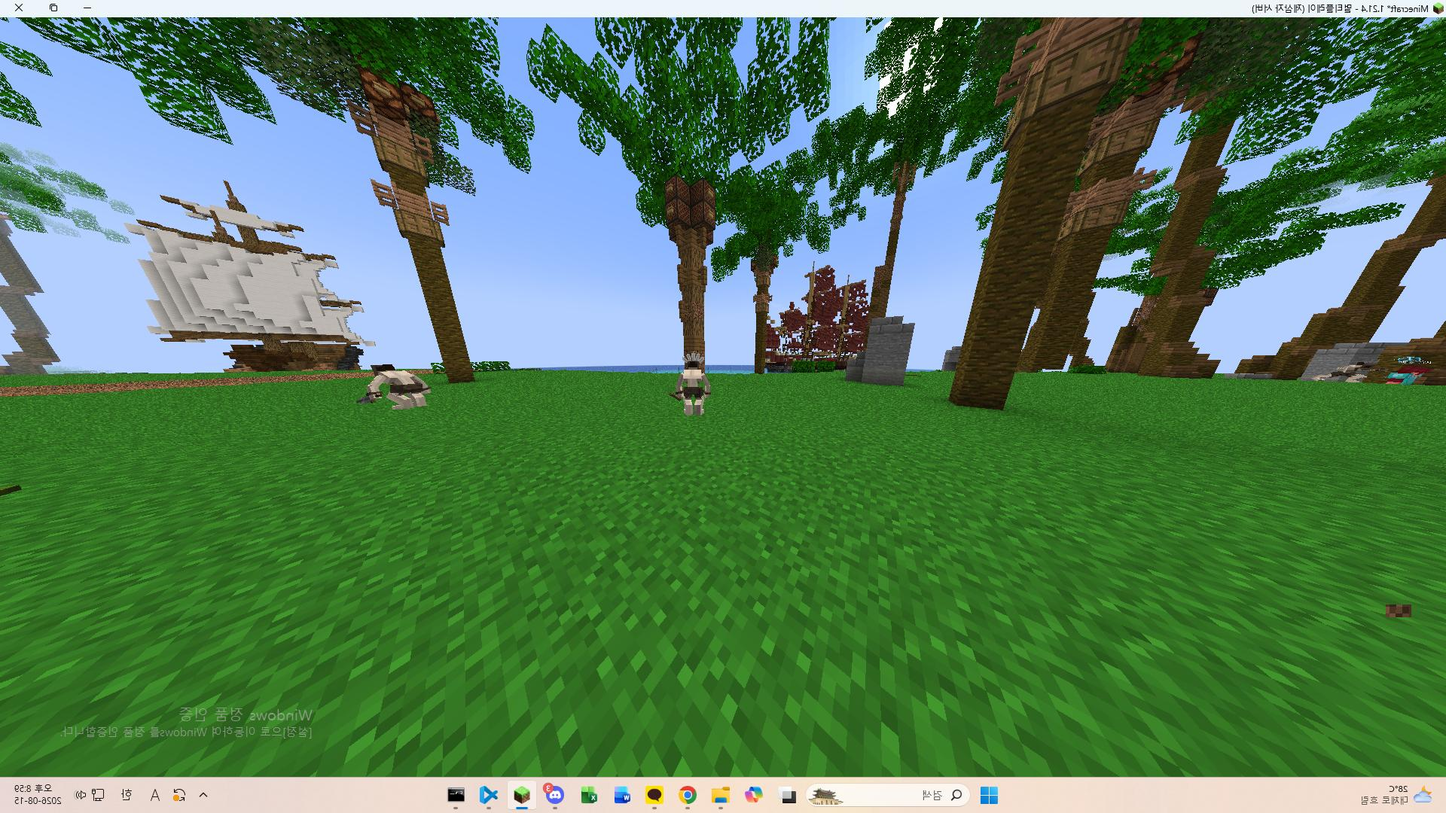bow_indian: (653, 345, 722, 422)
